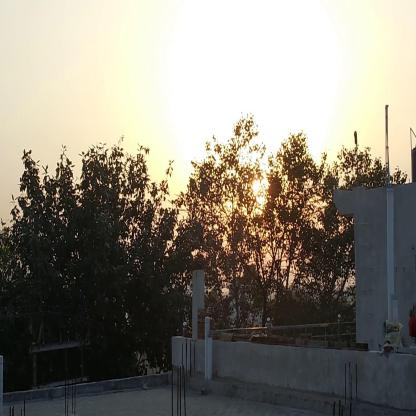other: (190, 56, 288, 229)
